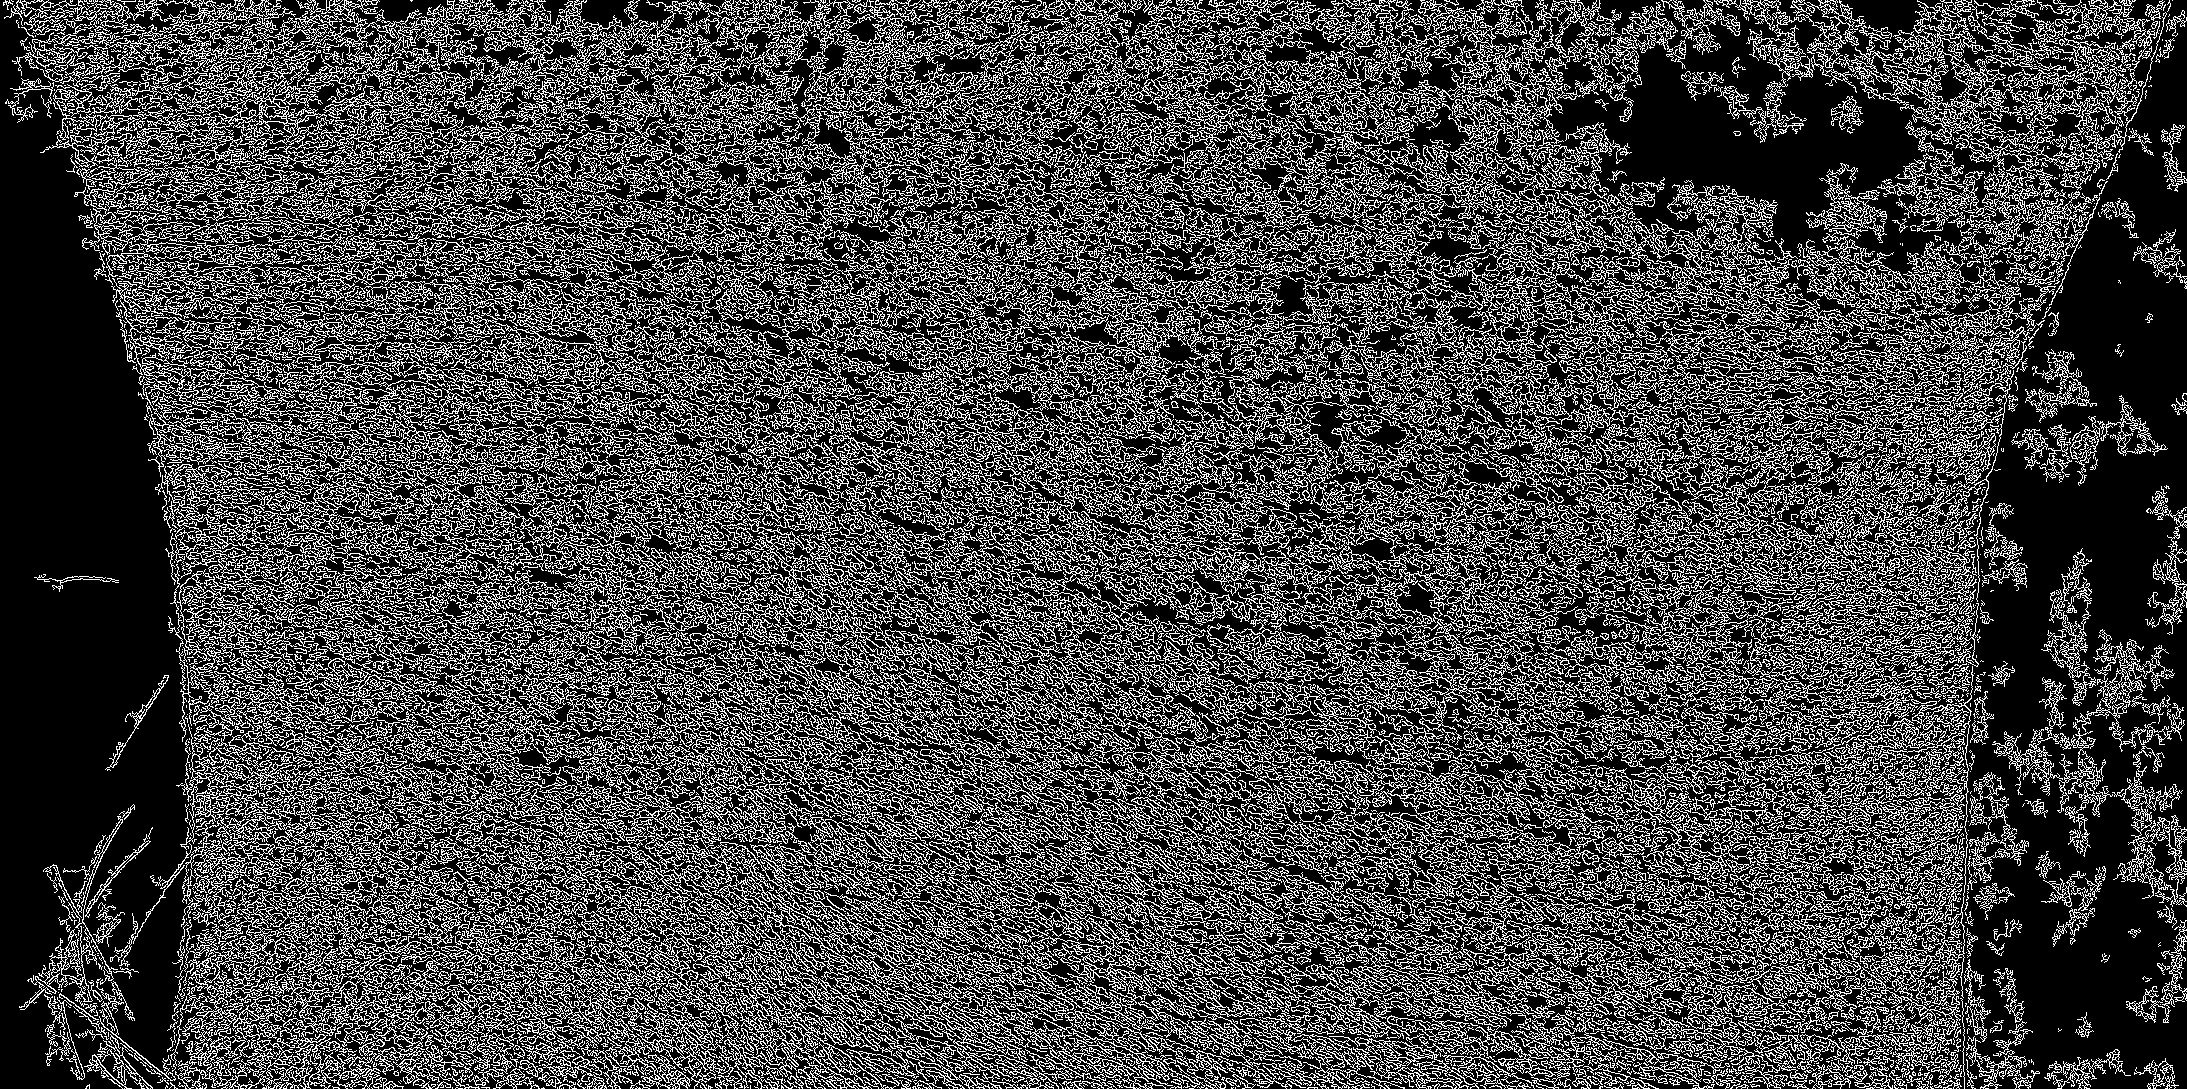singlecore: (386, 213, 391, 218), (398, 531, 402, 534), (425, 725, 428, 729), (1365, 813, 1370, 816), (1347, 1030, 1350, 1035), (898, 715, 901, 719), (787, 687, 789, 692), (803, 975, 808, 977), (462, 219, 464, 222), (367, 213, 370, 216), (377, 238, 379, 241), (418, 342, 421, 344), (370, 339, 372, 342), (476, 370, 478, 372), (439, 317, 442, 319), (354, 310, 357, 312), (342, 513, 345, 516), (402, 632, 404, 634), (414, 549, 417, 552), (473, 563, 476, 566), (1014, 392, 1017, 395), (1050, 816, 1053, 818), (993, 1056, 996, 1058), (1364, 704, 1367, 707), (1329, 830, 1332, 832), (863, 629, 866, 632), (890, 846, 893, 849), (918, 902, 921, 905), (944, 883, 947, 885), (876, 922, 879, 924), (820, 934, 823, 937), (844, 912, 847, 915), (914, 970, 916, 973), (925, 972, 928, 975), (928, 1064, 930, 1067), (1682, 460, 1685, 463), (1688, 498, 1690, 501)
